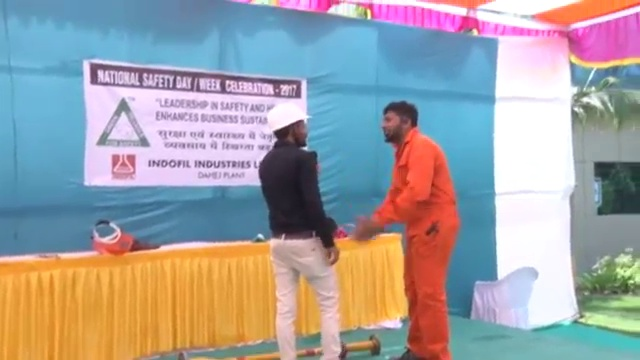helmet: (267, 102, 314, 131)
helmet_off: (380, 100, 420, 143)
helmet_on: (266, 102, 313, 149)
person: (354, 99, 461, 360), (255, 101, 350, 360)
